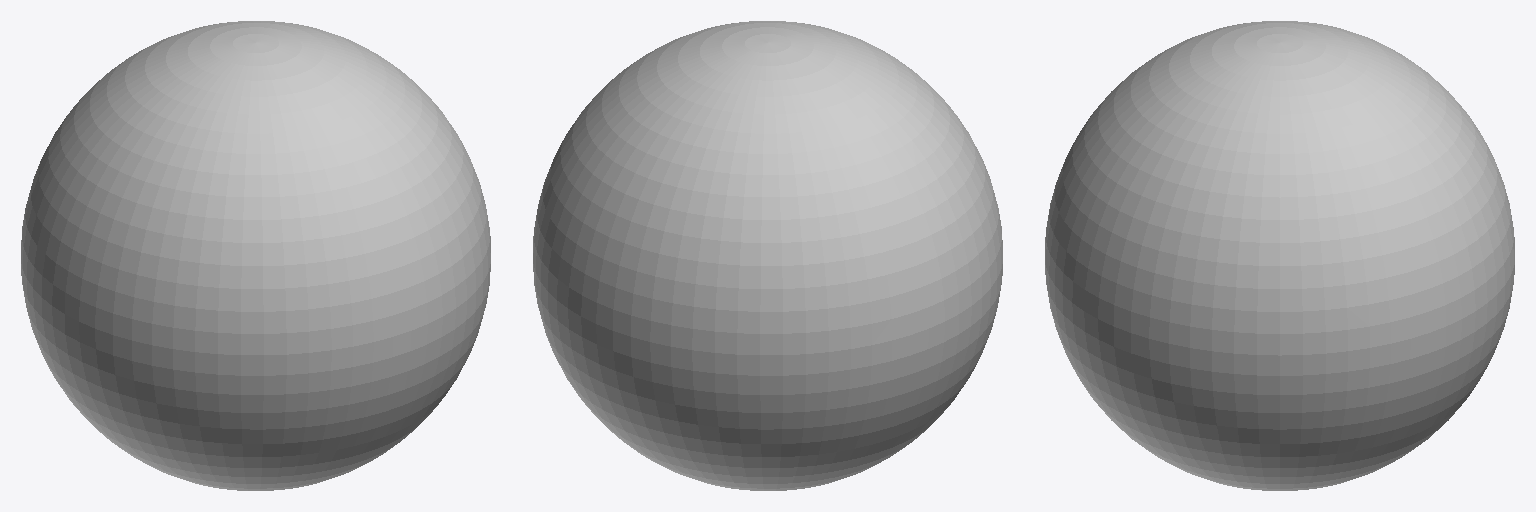
The model's file is underball1.obj.
3 views of the same model, side by side, from view 1: azimuth 30°, elevation 25°; view 2: azimuth 150°, elevation 25°; view 3: azimuth 270°, elevation 25° (orthographic).
Parts seen in each view (by area): view 1: 球体_球体.008; view 2: 球体_球体.008; view 3: 球体_球体.008.
Part boxes in pixels (bbox=[...]): 球体_球体.008: bbox=[21, 21, 490, 490]; 球体_球体.008: bbox=[533, 21, 1002, 490]; 球体_球体.008: bbox=[1045, 21, 1514, 490].
Bounding box in the file's own units: 1 × 1 × 1.